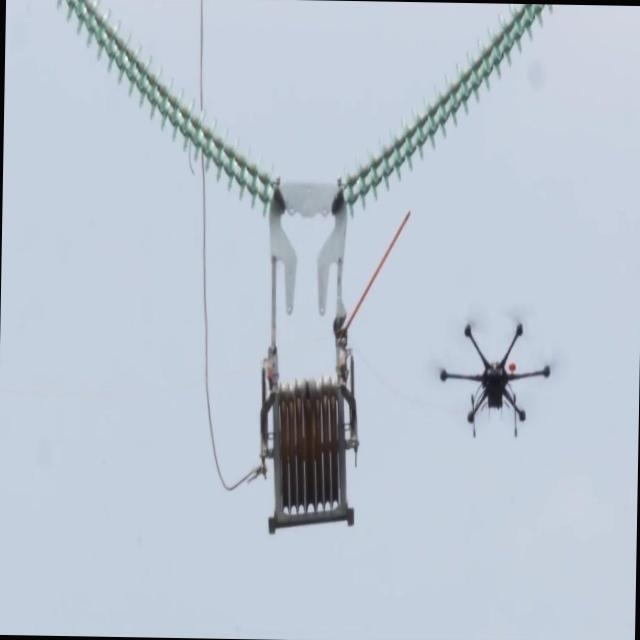drone: (436, 316, 553, 441)
